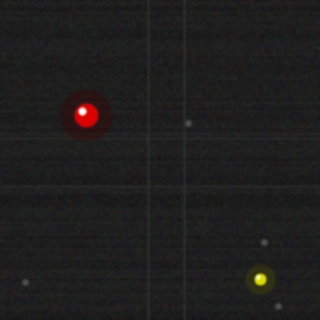red_fault: (72, 101, 100, 129)
yellow_warning: (252, 271, 268, 287)
